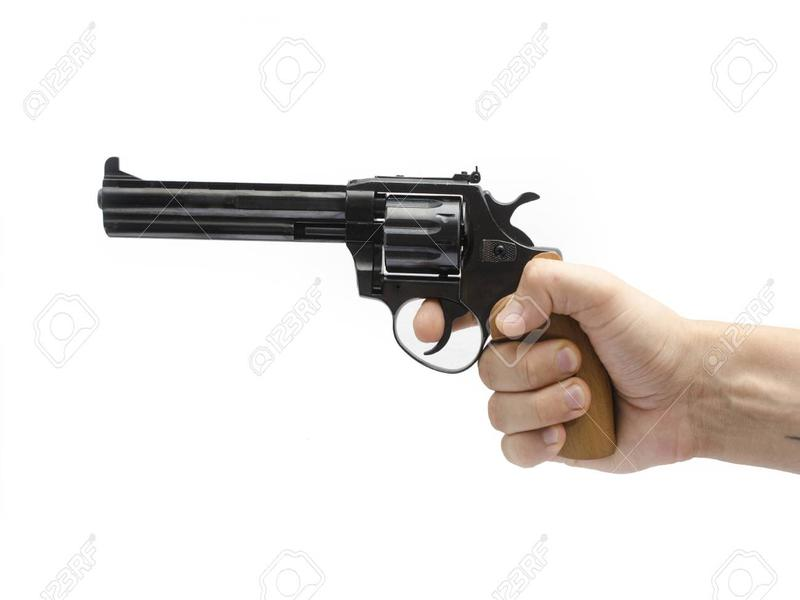Revolver: (77, 130, 613, 467)
